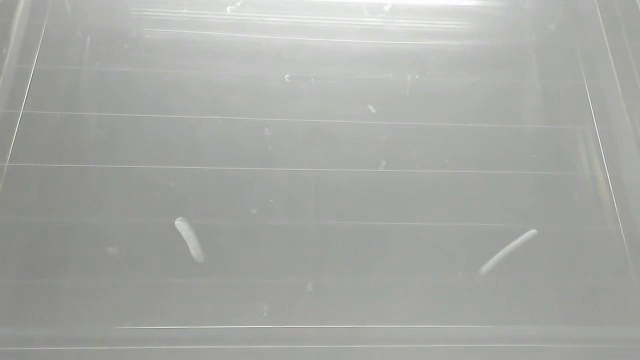alpha: (476, 227, 544, 278), (171, 214, 209, 265)
